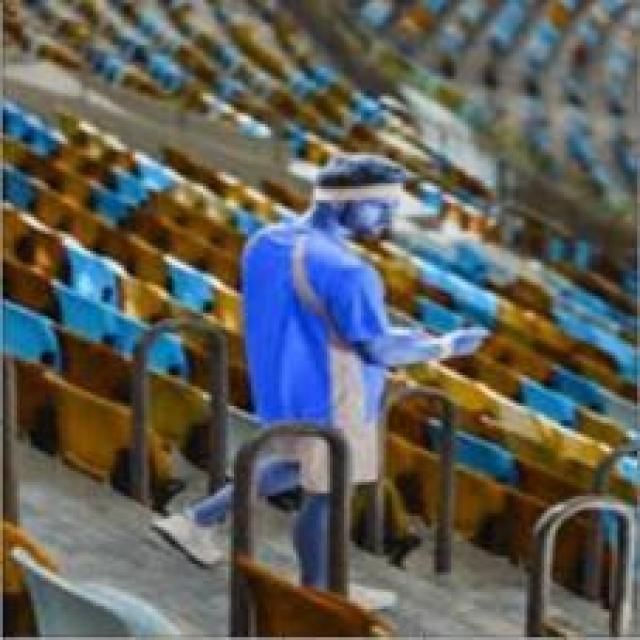downstair: (128, 427, 362, 618)
